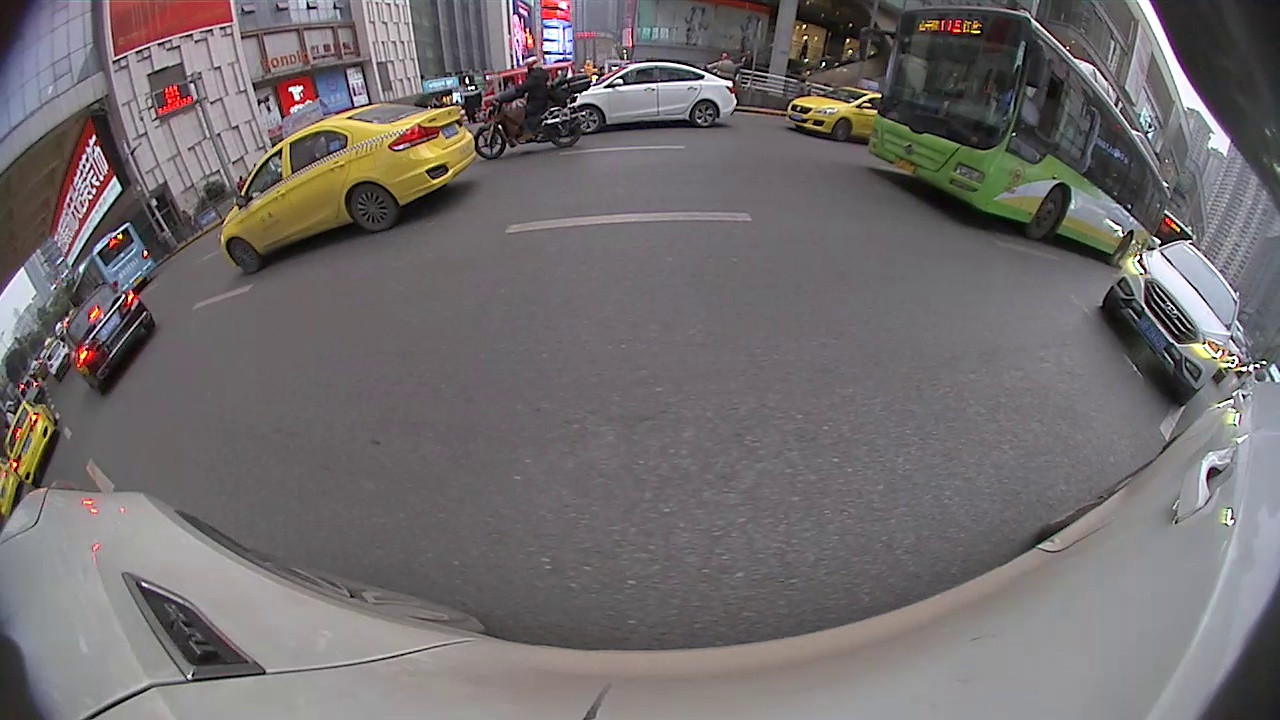bus: (864, 9, 1173, 271), (70, 214, 159, 314)
car: (221, 98, 480, 277), (1090, 243, 1250, 394), (550, 61, 737, 147), (61, 283, 159, 401), (786, 80, 889, 147), (0, 399, 68, 490)
front: (1029, 183, 1069, 242), (224, 239, 267, 274), (835, 118, 851, 139)
rear: (347, 186, 400, 233), (547, 113, 585, 150), (693, 102, 719, 129)
rider: (466, 54, 591, 158)
